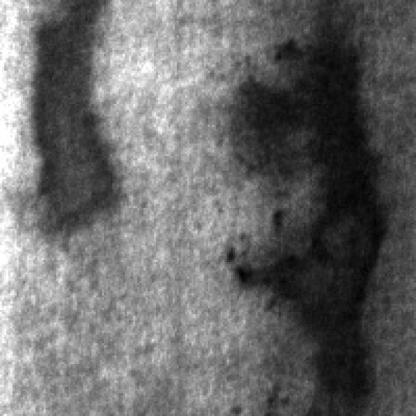patches: (225, 27, 391, 395), (31, 0, 121, 229)
